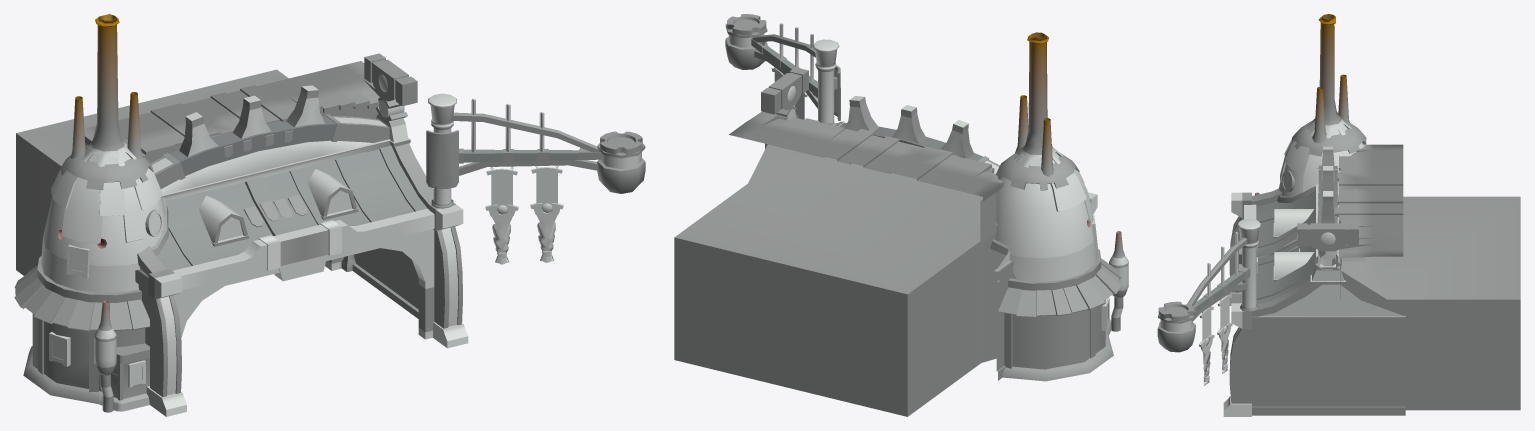
3 views of the same model, side by side, from view 1: azimuth 30°, elevation 25°; view 2: azimuth 150°, elevation 25°; view 3: azimuth 270°, elevation 25° (orthographic). The views are drawn at different scales.
Parts seen in each view (by area): view 1: G:\FFXIV-MapTools\exports\n4f1\bg\ex3\01_nvt_n4\fld\n4f1\bgp (×14); view 2: G:\FFXIV-MapTools\exports\n4f1\bg\ex3\01_nvt_n4\fld\n4f1\bgp (×11); view 3: G:\FFXIV-MapTools\exports\n4f1\bg\ex3\01_nvt_n4\fld\n4f1\bgp (×11).
Boxes of the visible parts, <box> form: G:\FFXIV-MapTools\exports\n4f1\bg\ex3\01_nvt_n4\fld\n4f1\bgp (×14): <box>14,14,645,416</box>; G:\FFXIV-MapTools\exports\n4f1\bg\ex3\01_nvt_n4\fld\n4f1\bgp (×11): <box>674,14,1128,416</box>; G:\FFXIV-MapTools\exports\n4f1\bg\ex3\01_nvt_n4\fld\n4f1\bgp (×11): <box>1157,14,1520,416</box>.
Bounding box in the file's own units: 20.07 × 12.89 × 14.96.
